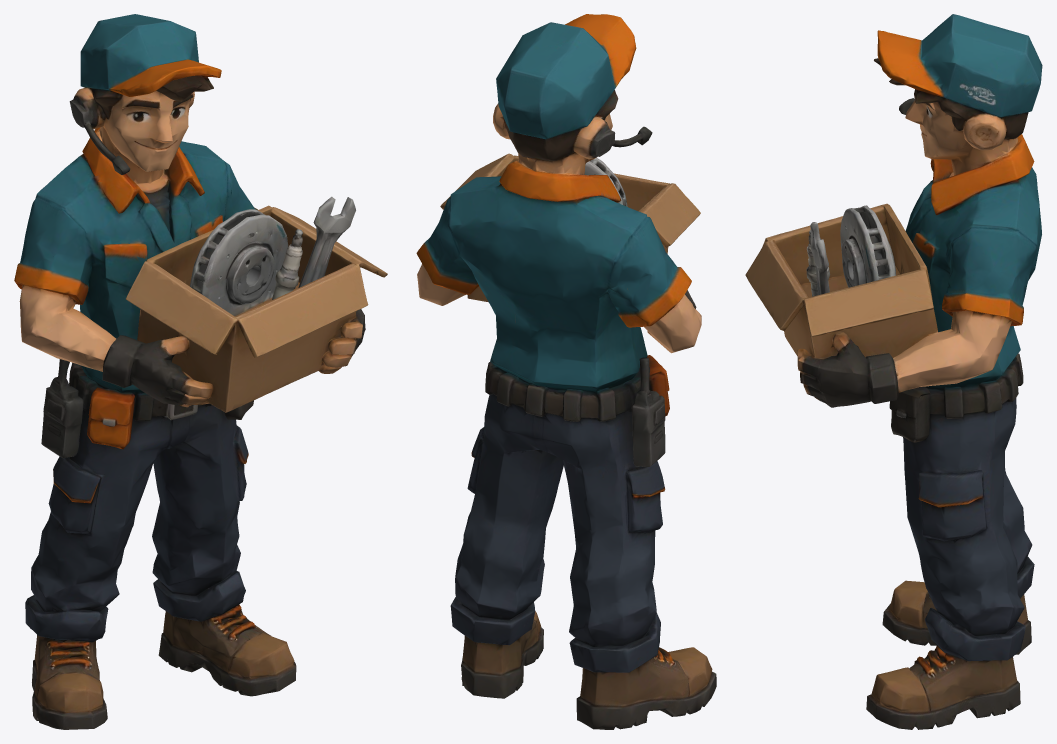
The model's file is delivery_part_character_1k_real.glb.
3 renders of one model, left to right at view 1: azimuth 30°, elevation 25°; view 2: azimuth 150°, elevation 25°; view 3: azimuth 270°, elevation 25°, orthographic.
Parts seen in each view (by area): view 1: tripo_node_38c6c71b-b291-480d-95fa-bf6753b75bf4; view 2: tripo_node_38c6c71b-b291-480d-95fa-bf6753b75bf4; view 3: tripo_node_38c6c71b-b291-480d-95fa-bf6753b75bf4.
Part boxes in pixels (<box>): tripo_node_38c6c71b-b291-480d-95fa-bf6753b75bf4: <box>14,14,387,729</box>; tripo_node_38c6c71b-b291-480d-95fa-bf6753b75bf4: <box>416,14,716,729</box>; tripo_node_38c6c71b-b291-480d-95fa-bf6753b75bf4: <box>745,14,1042,729</box>.
Bounding box in the file's own units: 0.4609 × 1 × 0.4105.
1 material, 1 textured.
